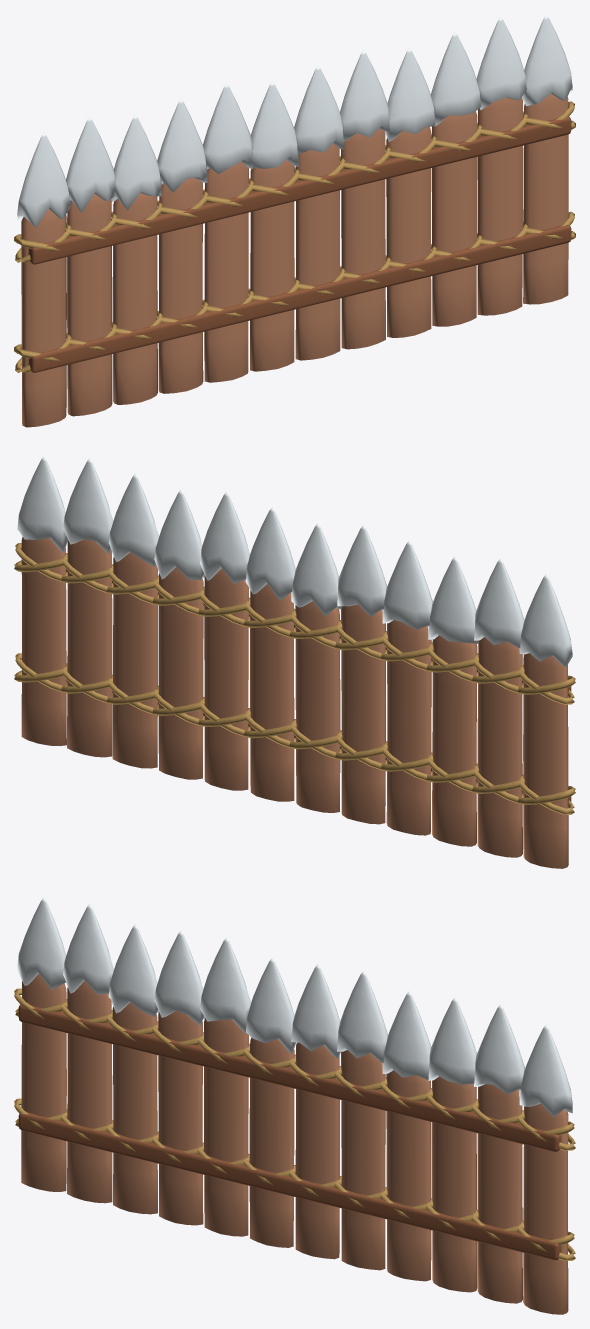
Rendered from fence_panel.obj.
3 renders of one model, top to bottom at view 1: azimuth 30°, elevation 25°; view 2: azimuth 150°, elevation 25°; view 3: azimuth 330°, elevation 25°, orthographic.
Visible parts, largest first — view 1: fence_panel; view 2: fence_panel; view 3: fence_panel.
Boxes of the visible parts, left/top/right/bottom form: fence_panel: left=14, top=15, right=575, bottom=427; fence_panel: left=14, top=456, right=575, bottom=868; fence_panel: left=14, top=897, right=575, bottom=1314.
Bounding box in the file's own units: 2.94 × 1.47 × 0.1512.
